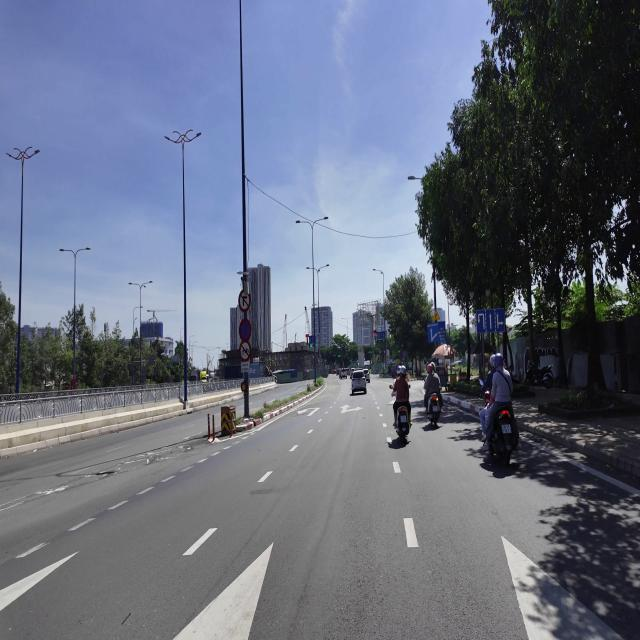car: (352, 370, 366, 394), (363, 369, 370, 382), (340, 369, 347, 379)
motorcycle: (489, 407, 518, 466), (390, 385, 410, 444), (525, 361, 554, 388), (427, 394, 440, 427)
